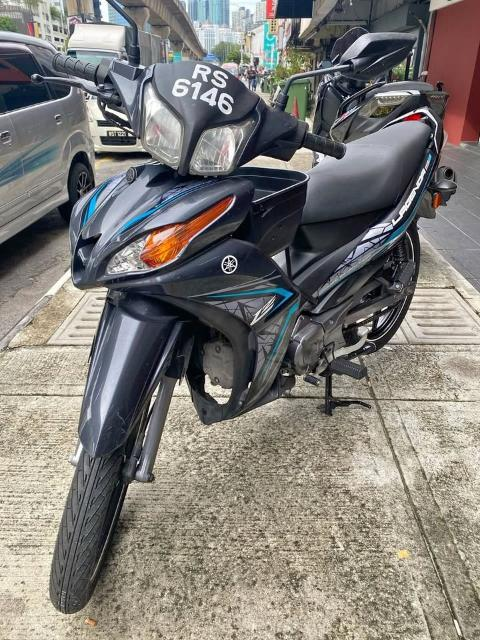License_Plate: (165, 64, 246, 118)
motorcycle: (32, 10, 459, 615)
